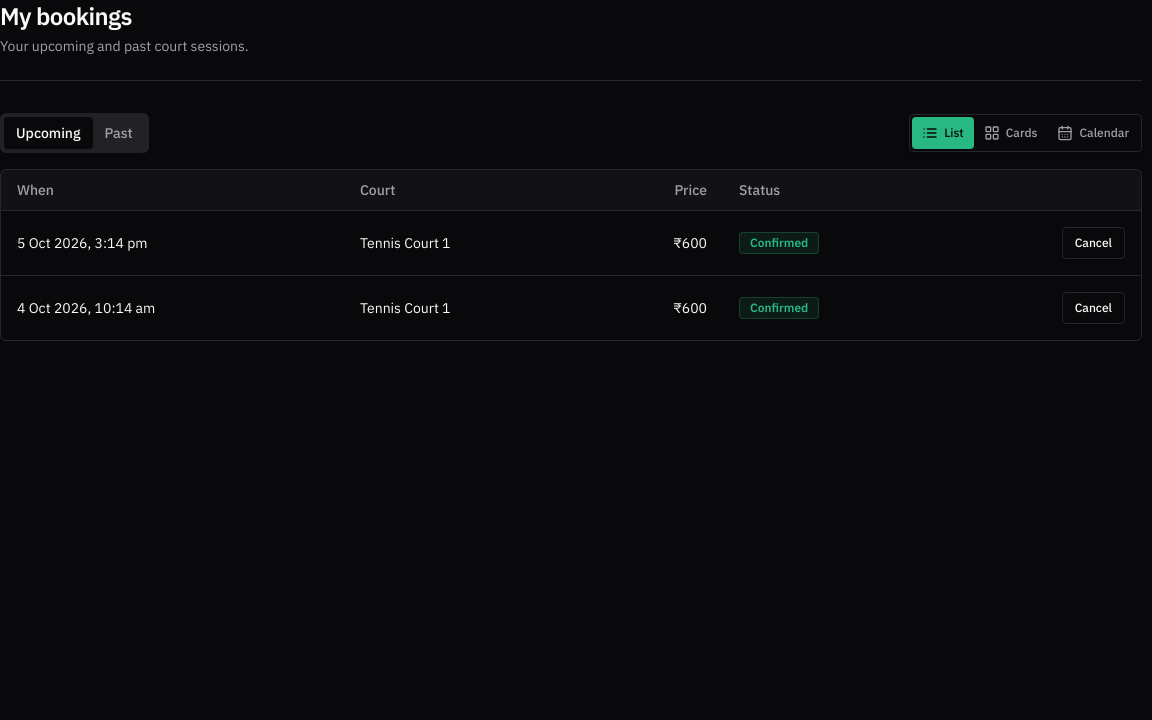
bookings page › warns about no refund inside the 2-hour cutoff
Click the button with aria-label "Cancel Tennis Court 1".
click(1093, 308)  # box [1062,292,1125,324]
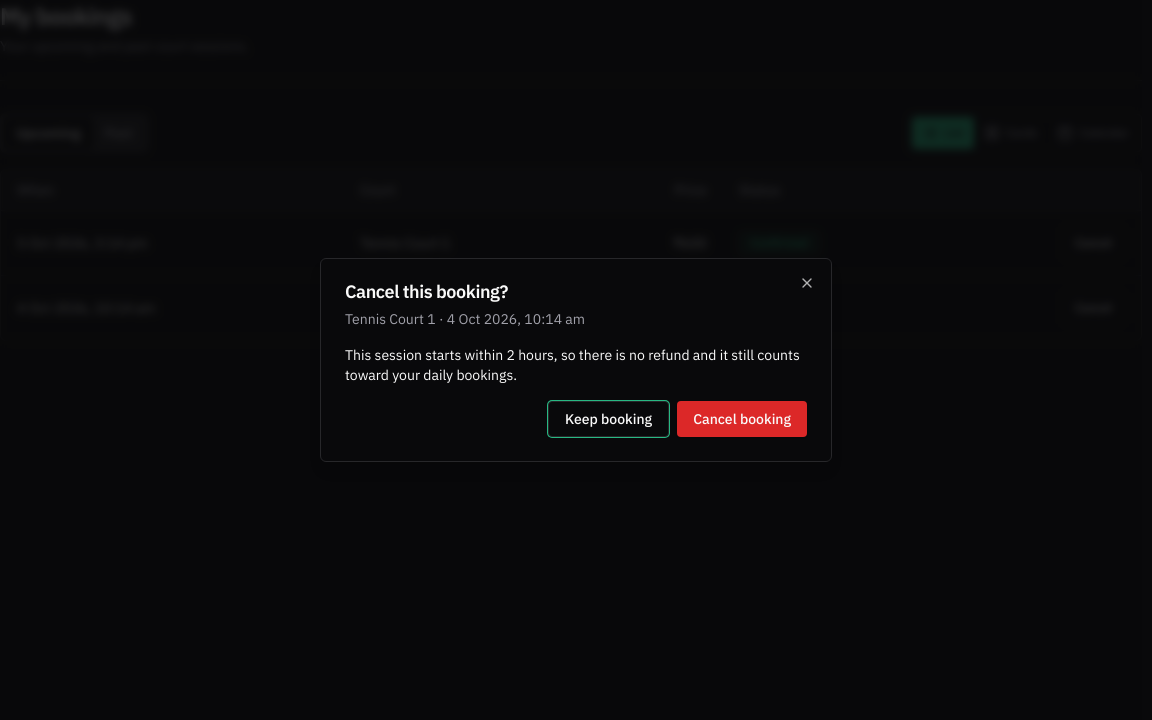
Check: the dialog shows "no refund", box [345,346,800,384]
Check: the dialog shows "starts within 2 hours", box [345,346,800,384]
